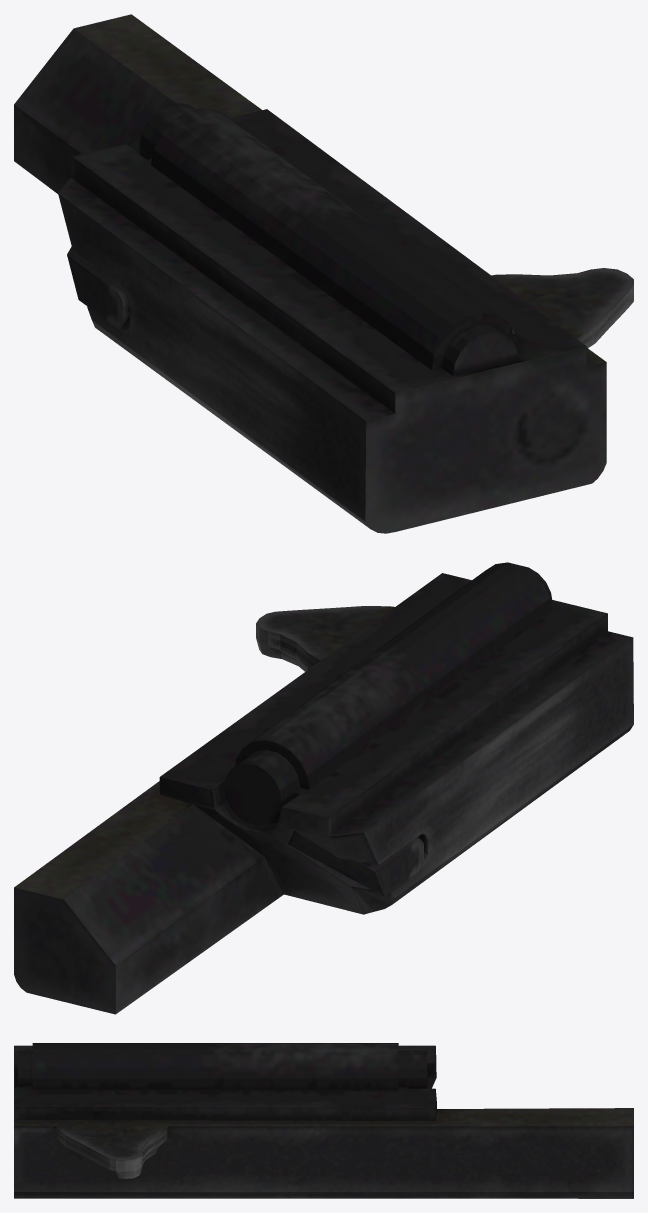
3 renders of one model, top to bottom at view 1: azimuth 30°, elevation 25°; view 2: azimuth 150°, elevation 25°; view 3: azimuth 270°, elevation 25°, orthographic. The views are drawn at different scales.
Parts seen in each view (by area): view 1: TW_57f4c844245977379d5c14d1_PZ_Import; view 2: TW_57f4c844245977379d5c14d1_PZ_Import; view 3: TW_57f4c844245977379d5c14d1_PZ_Import.
Boxes of the visible parts, x1=… form: TW_57f4c844245977379d5c14d1_PZ_Import: x1=14, y1=14, x2=633, y2=533; TW_57f4c844245977379d5c14d1_PZ_Import: x1=14, y1=562, x2=633, y2=1014; TW_57f4c844245977379d5c14d1_PZ_Import: x1=14, y1=1043, x2=633, y2=1198.
Size of the model in its own units: 0.0268 by 0.0636 by 0.0136.
1 material, 1 textured.
